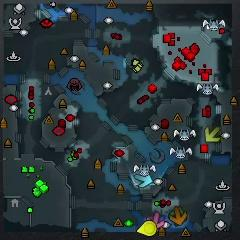p4: (136, 221, 156, 237)
x1: (147, 211, 164, 229)
x2: (205, 125, 221, 142)
x3: (134, 172, 152, 187)
x4: (170, 206, 184, 216)
x5: (169, 206, 187, 226)
